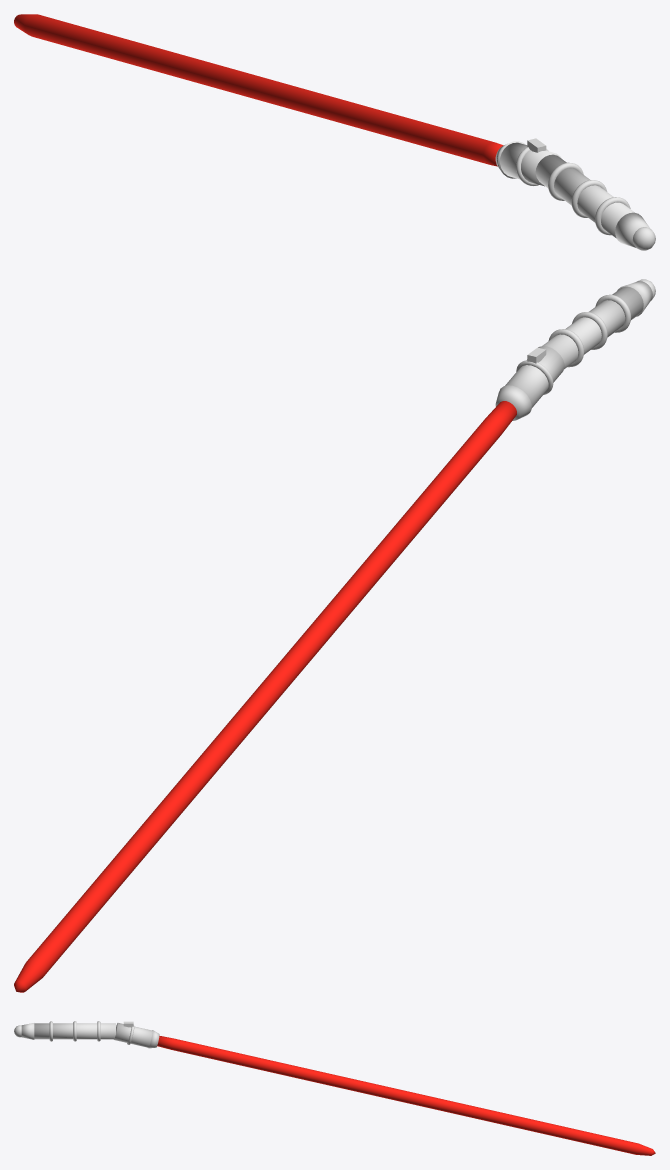
The model's file is Saber_Dooku.fbx.
The picture shows the model from 3 angles, top to bottom: view 1: azimuth 30°, elevation 25°; view 2: azimuth 150°, elevation 25°; view 3: azimuth 270°, elevation 25°; orthographic projection. The views are drawn at different scales.
Visible parts, largest first — view 1: Saber_Dooku; view 2: Saber_Dooku; view 3: Saber_Dooku.
Boxes of the visible parts, x1,y1,x2,y2 form: Saber_Dooku: (14,14,655,250); Saber_Dooku: (14,279,655,992); Saber_Dooku: (14,1021,655,1155).
Bounding box in the file's own units: 0.0416 × 0.2896 × 1.26.
